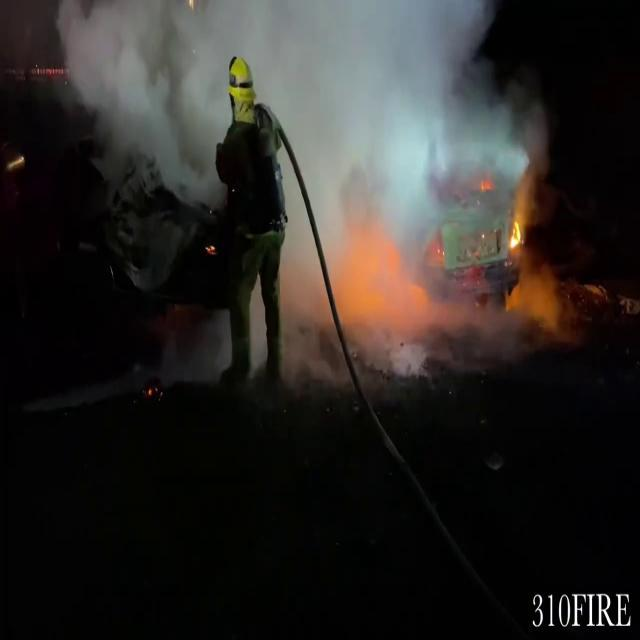Fire: (328, 215, 426, 335), (506, 216, 524, 254)
Smoke: (75, 0, 538, 205)
